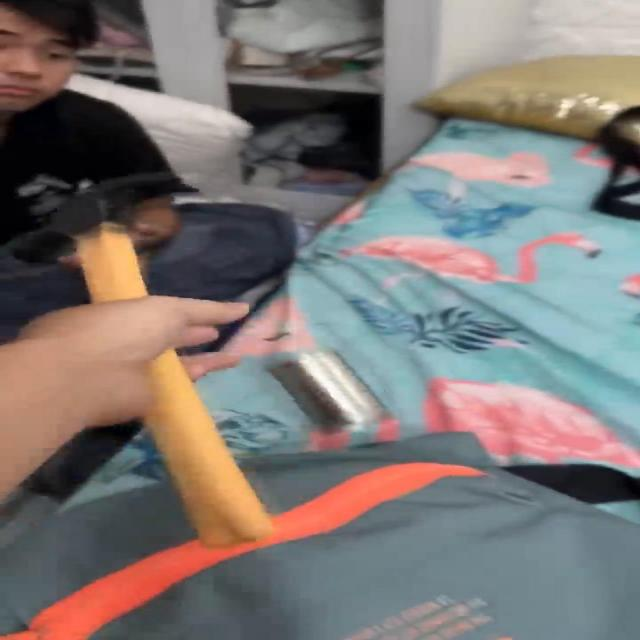hammer: (16, 170, 286, 552)
